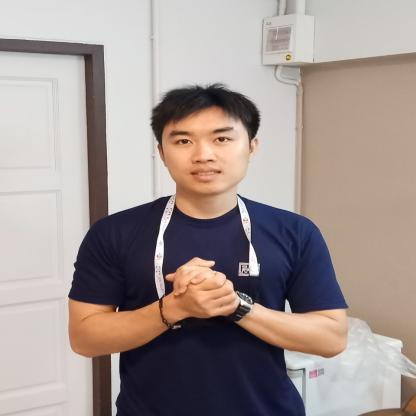Grieve: (80, 258, 350, 361)
